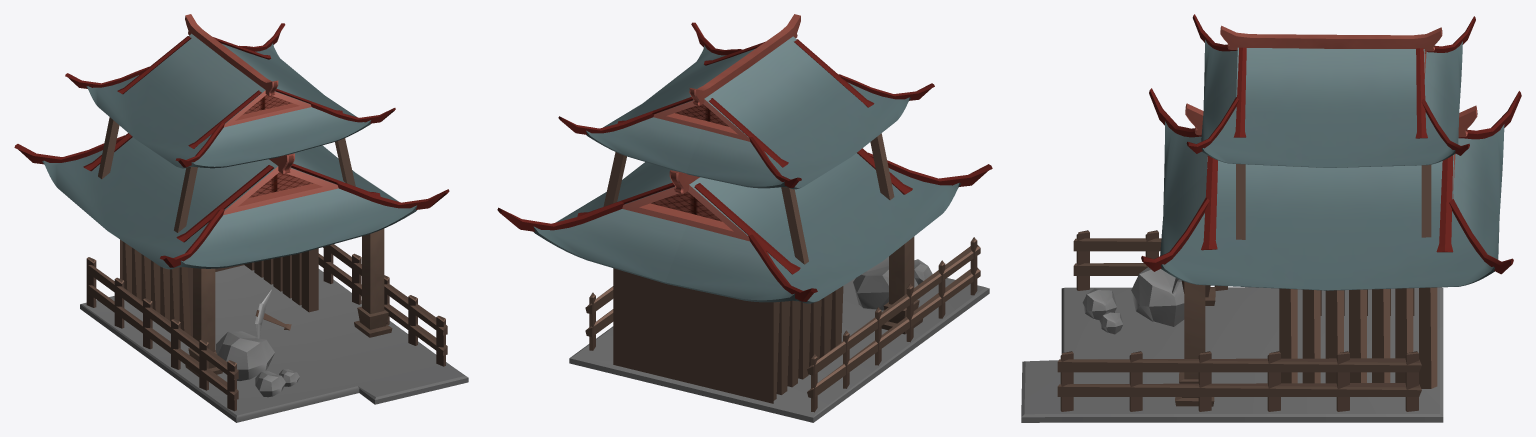
File: mine_3lvl.fbx
3 renders of one model, left to right at view 1: azimuth 30°, elevation 25°; view 2: azimuth 150°, elevation 25°; view 3: azimuth 270°, elevation 25°, orthographic. The views are drawn at different scales.
Visible parts, largest first — view 1: mine_3lvl; view 2: mine_3lvl; view 3: mine_3lvl.
Part boxes in pixels (x1,y1,x2,y2): mine_3lvl: [14, 14, 468, 422]; mine_3lvl: [497, 14, 992, 422]; mine_3lvl: [1021, 14, 1521, 422].
Bounding box in the file's own units: 5.36 × 4.73 × 6.52.
